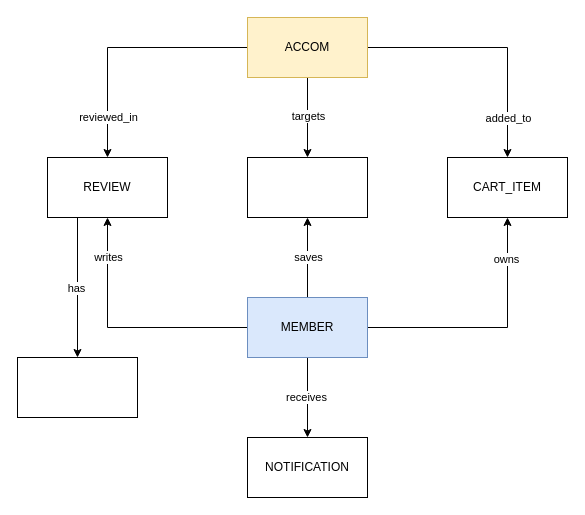
Some shapes in this 585 by 515 pixel diagram are drawn without their labels. Here are the shapes that lost their labels. From the top down, the centre of each, then its label:
At pixel 307 187: "WISH".
At pixel 77 387: "REVIEW_IMG".
